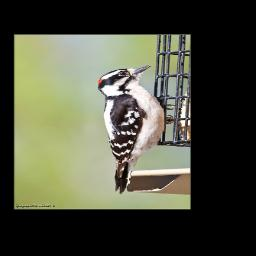Woodpecker: (95, 64, 175, 196)
